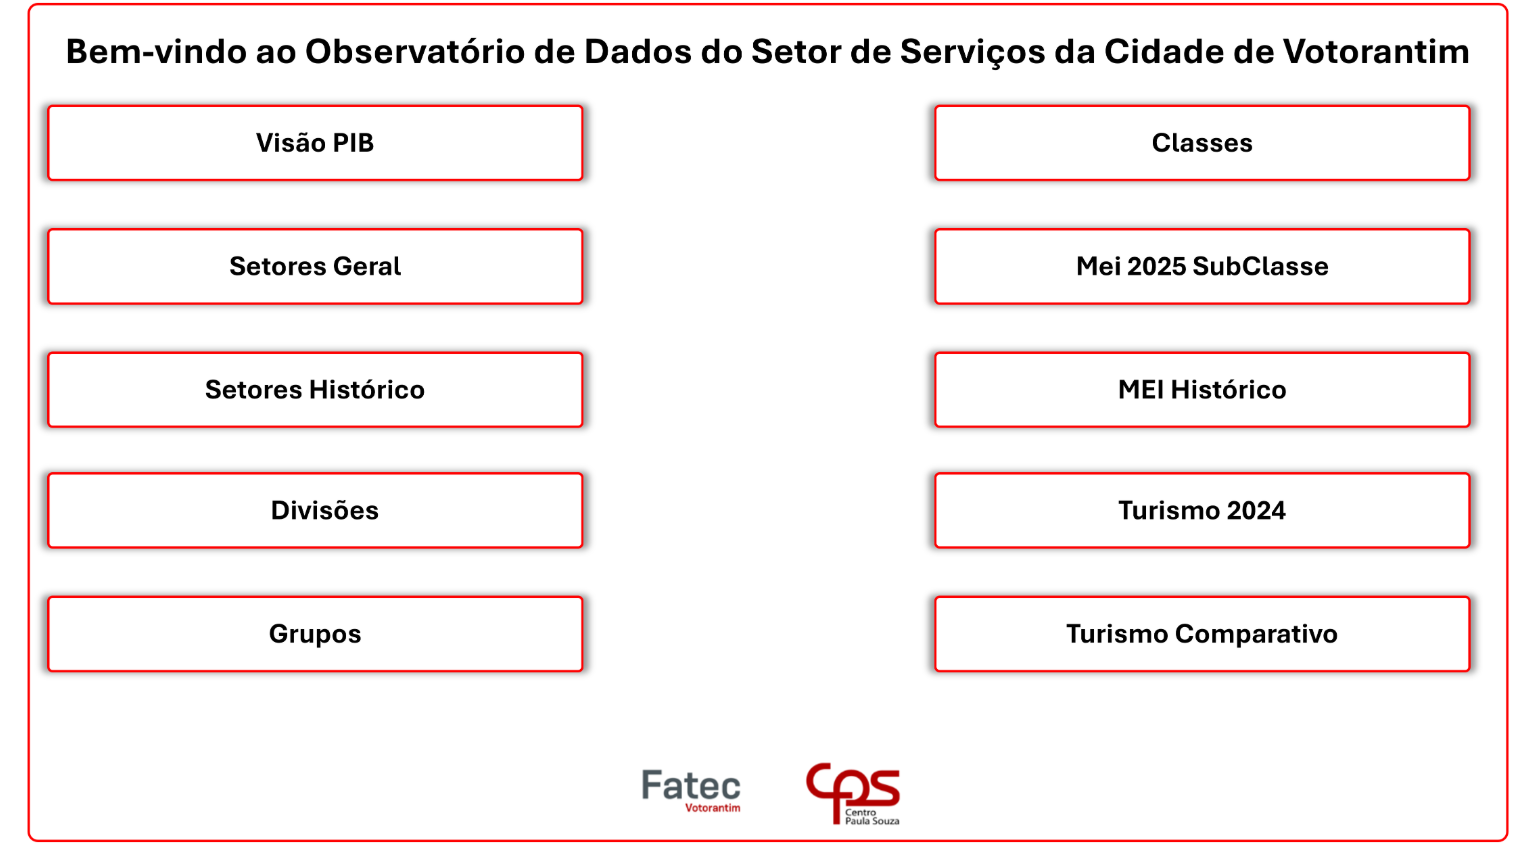

What the dashboard file says about the page in this screenshot:
{"tool":"powerbi","page":{"name":"Home","canvas":[1280,720],"ordinal":0},"visuals":[{"type":"image","box":[9.8,0,1270.2,720.1],"z":0},{"type":"shape","box":[28.5,91.4,462.7,65.8],"z":1},{"type":"shape","box":[28.5,196.5,462.7,65.8],"z":2},{"type":"shape","box":[28.5,294.7,462.7,65.8],"z":3},{"type":"shape","box":[28.5,406.7,462.7,65.8],"z":4},{"type":"shape","box":[28.5,513.8,462.7,65.8],"z":5},{"type":"shape","box":[28.5,620.8,462.7,65.8],"z":6},{"type":"shape","box":[785.9,91.4,462.7,65.8],"z":7},{"type":"shape","box":[785.9,196.5,462.7,65.8],"z":8},{"type":"shape","box":[785.9,301.6,462.7,65.8],"z":9},{"type":"shape","box":[785.9,406.7,462.7,65.8],"z":10},{"type":"shape","box":[785.9,513.8,462.7,65.8],"z":11},{"type":"shape","box":[785.9,620.8,462.7,65.8],"z":12}]}

Visuals, with their boxes in screenshot pixels (x1, y1, x2, y2), scaled from the page's 1280x720 canvas onto the 1522x844 screenshot:
image: box=[12, 0, 1521, 843]
shape: box=[34, 107, 584, 184]
shape: box=[34, 230, 584, 307]
shape: box=[34, 345, 584, 423]
shape: box=[34, 477, 584, 554]
shape: box=[34, 602, 584, 679]
shape: box=[34, 728, 584, 805]
shape: box=[934, 107, 1485, 184]
shape: box=[934, 230, 1485, 307]
shape: box=[934, 354, 1485, 431]
shape: box=[934, 477, 1485, 554]
shape: box=[934, 602, 1485, 679]
shape: box=[934, 728, 1485, 805]
